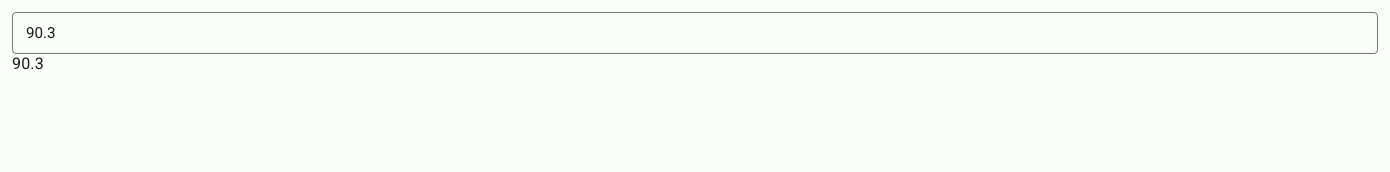
Test: NumberInput › shows the saved value again if left empty
Step 1. Clear the number field named "Age" → (695, 33), box [12,12,1378,54]
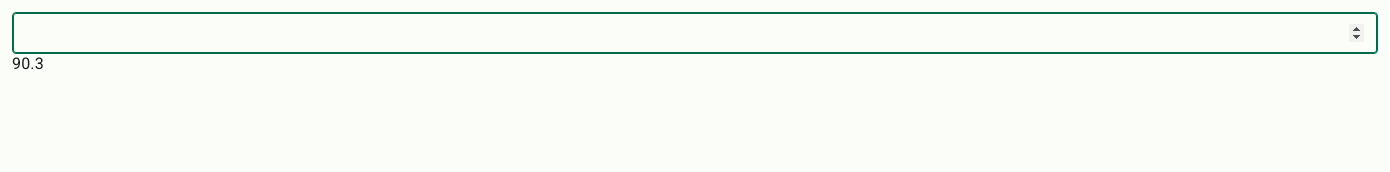
Step 2. Press Tab
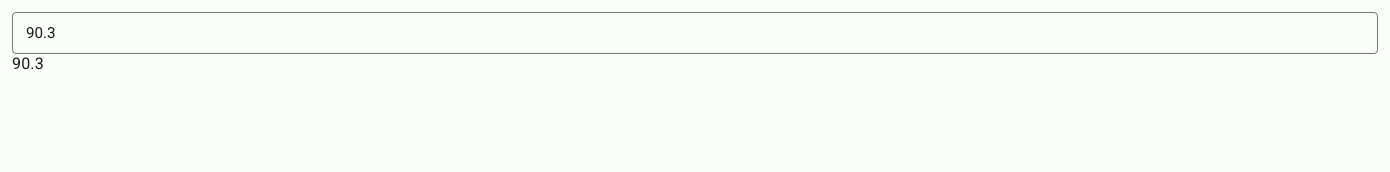
Expected: the number field named "Age" holds "90.3", [12,12,1378,54]
